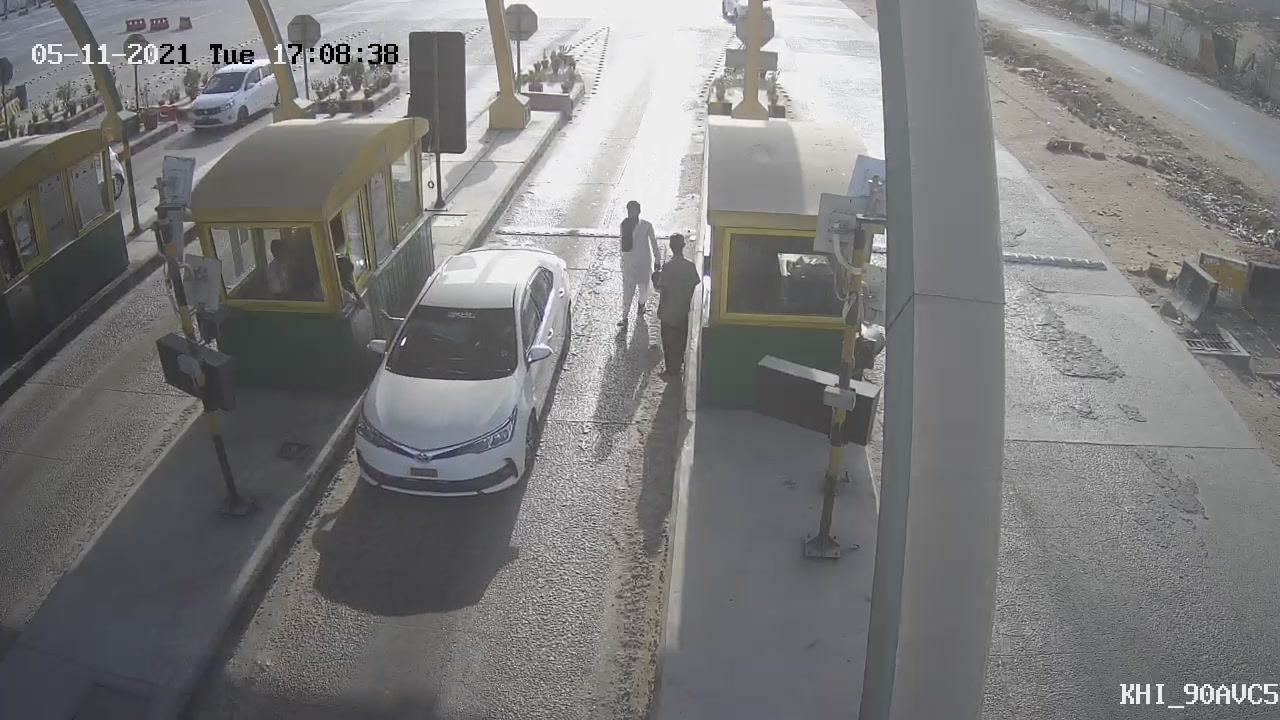F1: (324, 224, 596, 520)
